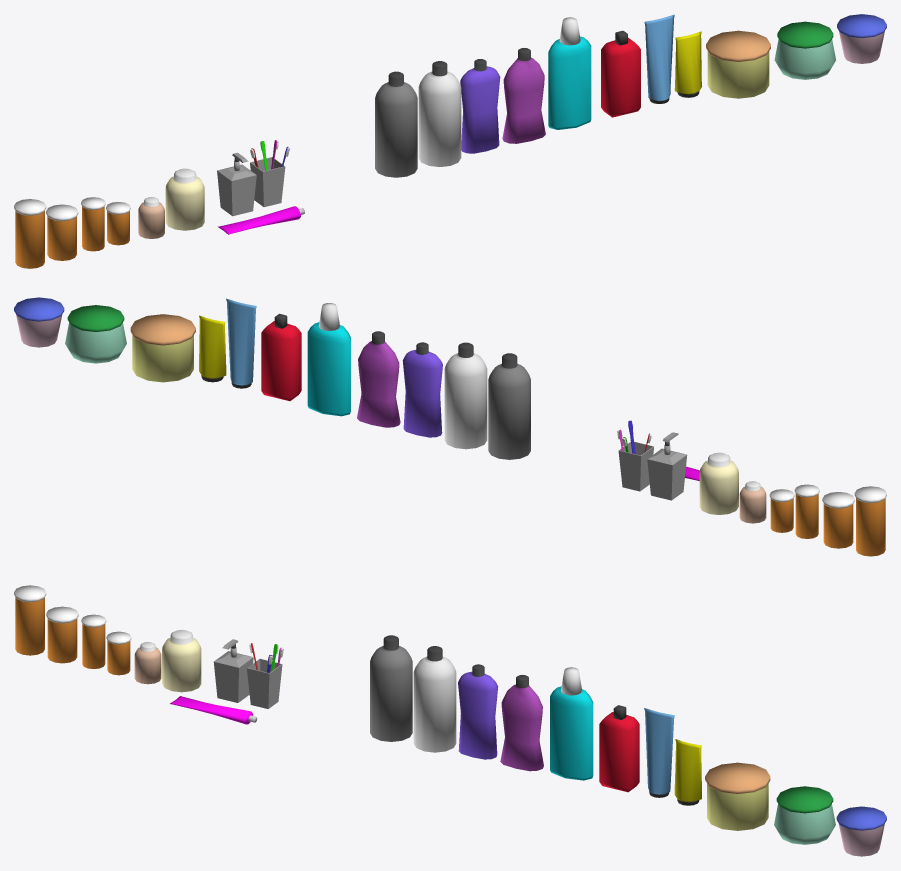
The model's file is bathroom_stuff.glb.
3 renders of one model, top to bottom at view 1: azimuth 30°, elevation 25°; view 2: azimuth 150°, elevation 25°; view 3: azimuth 330°, elevation 25°, orthographic.
Visible parts, largest first — view 1: Cylinder.009, Cylinder.001, Cylinder, Cylinder.004, Cylinder.008, Cylinder.002, Cube.006, Cylinder.016, Cylinder.005, Cylinder.010, Cylinder.013, Cylinder.015 (+8 smaller); view 2: Cylinder.009, Cylinder.001, Cylinder, Cylinder.004, Cylinder.008, Cylinder.002, Cube.006, Cylinder.016, Cylinder.005, Cylinder.010, Cylinder.013, Cylinder.015 (+7 smaller); view 3: Cylinder.009, Cylinder.001, Cylinder, Cylinder.004, Cylinder.008, Cylinder.002, Cube.006, Cylinder.016, Cylinder.005, Cylinder.010, Cylinder.013, Cylinder.015 (+8 smaller).
Part boxes in pixels (bbox=[...]): Cylinder.009: bbox=[548, 17, 591, 129]; Cylinder.001: bbox=[418, 61, 461, 166]; Cylinder: bbox=[375, 71, 417, 177]; Cylinder.004: bbox=[706, 30, 770, 98]; Cylinder.008: bbox=[502, 48, 545, 143]; Cylinder.002: bbox=[460, 59, 500, 153]; Cube.006: bbox=[601, 30, 640, 117]; Cylinder.016: bbox=[774, 21, 835, 79]; Cylinder.005: bbox=[644, 14, 674, 103]; Cylinder.010: bbox=[165, 168, 204, 230]; Cylinder.013: bbox=[14, 199, 46, 268]; Cylinder.015: bbox=[837, 14, 886, 63]; Cylinder.009: bbox=[307, 303, 350, 416]; Cylinder.001: bbox=[444, 342, 487, 449]; Cylinder: bbox=[488, 353, 530, 459]; Cylinder.004: bbox=[130, 314, 195, 382]; Cylinder.008: bbox=[357, 331, 400, 427]; Cylinder.002: bbox=[402, 342, 442, 437]; Cube.006: bbox=[261, 313, 301, 401]; Cylinder.016: bbox=[65, 305, 126, 363]; Cylinder.005: bbox=[226, 298, 256, 388]; Cylinder.010: bbox=[699, 452, 738, 514]; Cylinder.013: bbox=[854, 486, 886, 556]; Cylinder.015: bbox=[14, 297, 64, 347]; Cylinder.009: bbox=[550, 667, 593, 780]; Cylinder.001: bbox=[413, 646, 456, 752]; Cylinder: bbox=[370, 635, 412, 741]; Cylinder.004: bbox=[705, 762, 770, 830]; Cylinder.008: bbox=[500, 675, 543, 771]; Cylinder.002: bbox=[458, 664, 498, 759]; Cube.006: bbox=[599, 705, 639, 792]; Cylinder.016: bbox=[774, 786, 835, 844]; Cylinder.005: bbox=[644, 708, 674, 797]; Cylinder.010: bbox=[162, 629, 201, 692]; Cylinder.013: bbox=[14, 585, 46, 655]; Cylinder.015: bbox=[836, 806, 886, 856].
Size of the model in its own units: 75.86 by 9.41 by 6.7.
